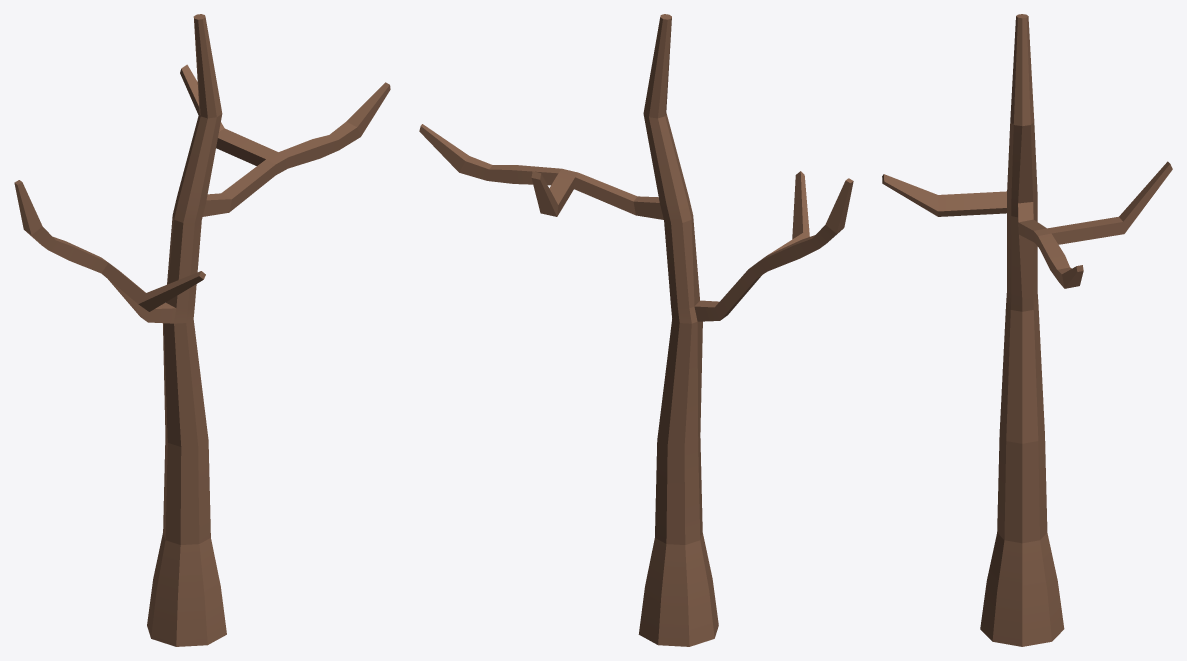
Rendered from japan_tree_4.fbx.
The picture shows the model from 3 angles, left to right: view 1: azimuth 30°, elevation 25°; view 2: azimuth 150°, elevation 25°; view 3: azimuth 270°, elevation 25°; orthographic projection.
Visible parts, largest first — view 1: japan_tree_4; view 2: japan_tree_4; view 3: japan_tree_4.
Boxes of the visible parts, x1,y1,x2,y2 form: japan_tree_4: (14, 14, 390, 646); japan_tree_4: (419, 14, 853, 646); japan_tree_4: (882, 14, 1172, 646).
Bounding box in the file's own units: 414 × 599 × 255.
